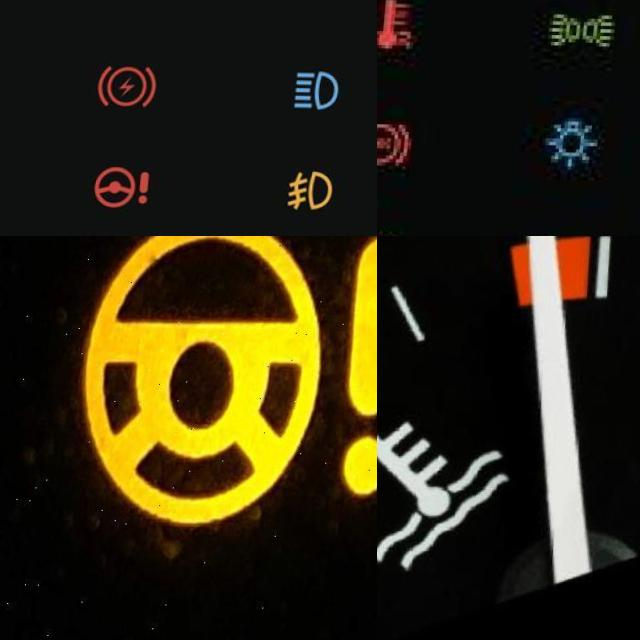Electronic Power Steering: (97, 163, 165, 212)
Electronic Power Steering Warning: (76, 236, 377, 530)
High Engine Coolant Temperature: (377, 0, 420, 54)
